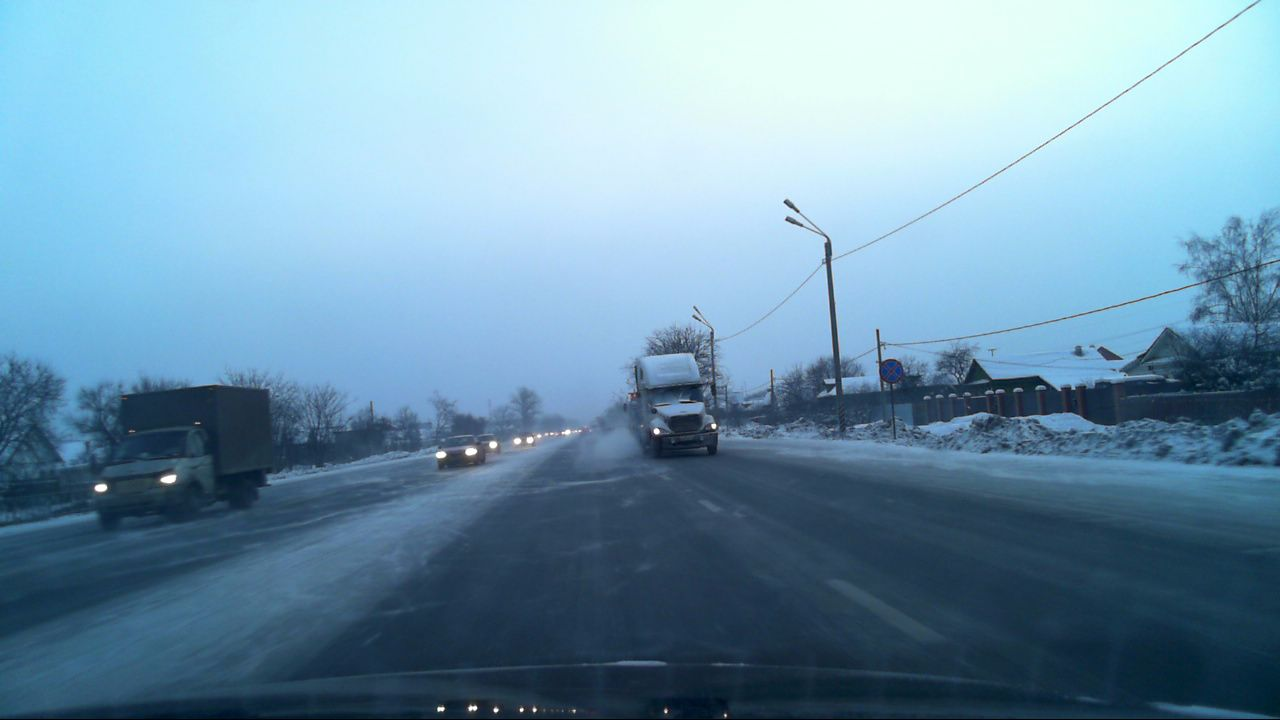No Parking: (878, 359, 903, 384)
